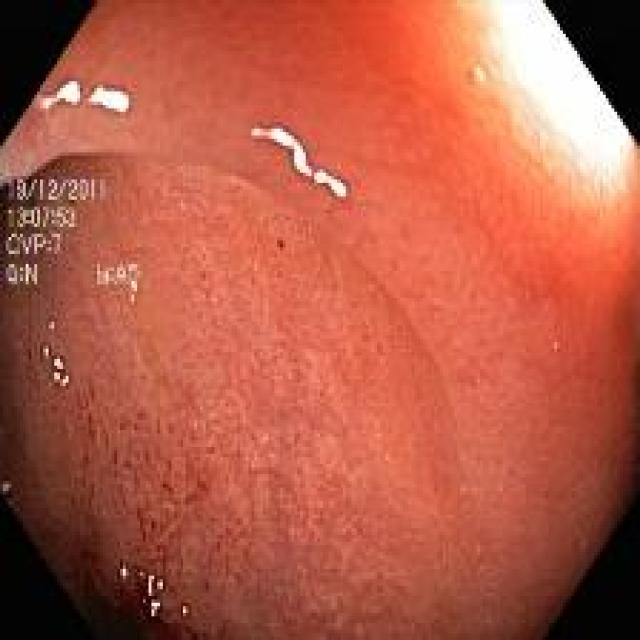ulcerative-colitis-grade-1: (2, 156, 459, 639)
